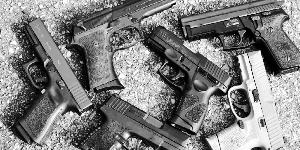handgun: (4, 12, 96, 150), (140, 18, 236, 139), (70, 1, 185, 94), (176, 2, 300, 78), (202, 47, 282, 150), (73, 89, 196, 150)
